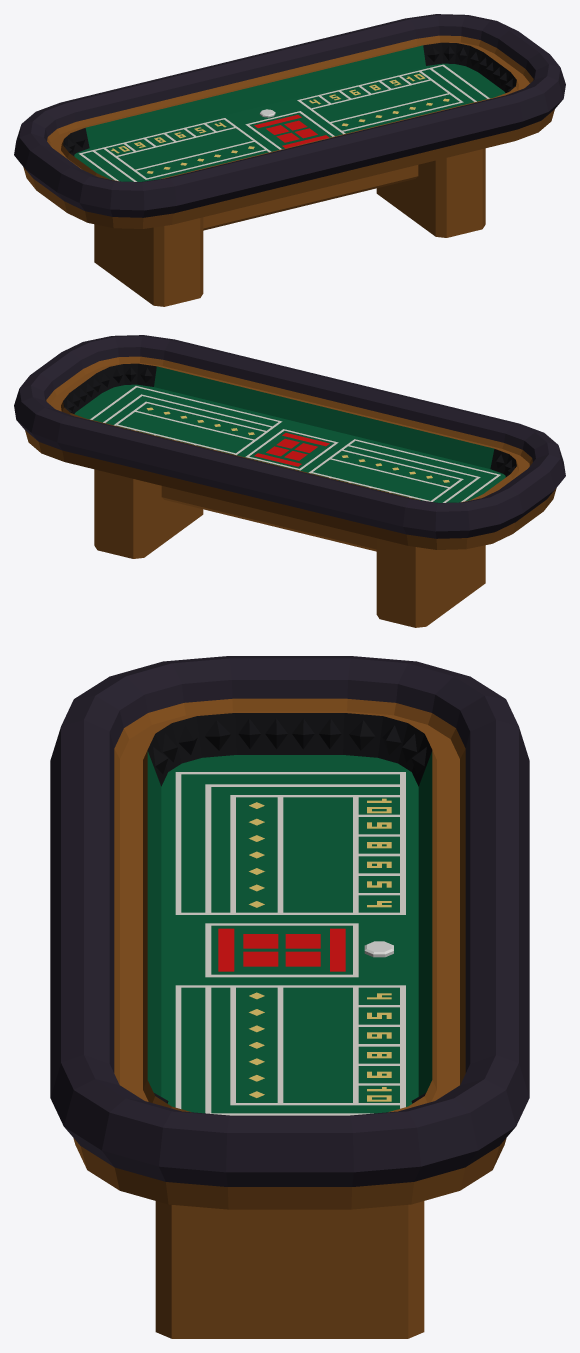
Rendered from craps-table-5439ee.glb.
3 renders of one model, top to bottom at view 1: azimuth 30°, elevation 25°; view 2: azimuth 150°, elevation 25°; view 3: azimuth 270°, elevation 25°, orthographic. The views are drawn at different scales.
Visible parts, largest first — view 1: craps-table-body; view 2: craps-table-body; view 3: craps-table-body.
Boxes of the visible parts, <box> form: craps-table-body: <box>14,14,565,306</box>; craps-table-body: <box>14,335,565,627</box>; craps-table-body: <box>50,656,529,1338</box>.
Bounding box in the file's own units: 3.6 × 1 × 1.5.
